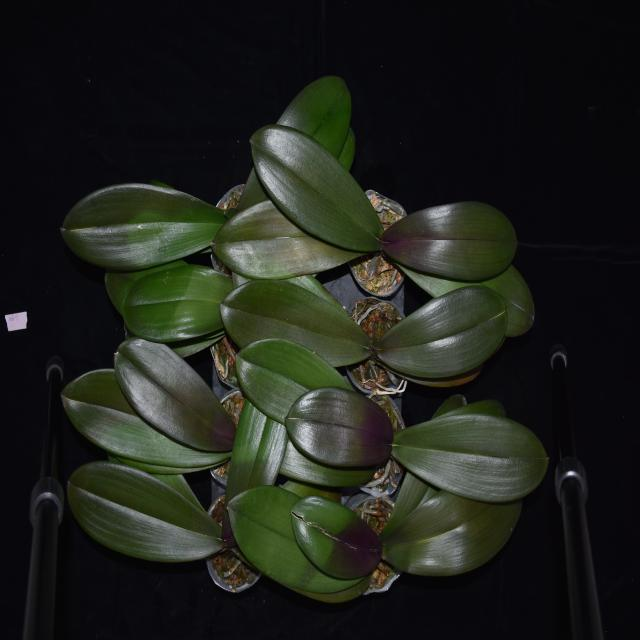leaf: (228, 482, 379, 605), (59, 366, 232, 473), (250, 122, 382, 255), (66, 461, 224, 566), (240, 76, 353, 210), (117, 338, 237, 456), (215, 280, 374, 366), (212, 194, 376, 276), (393, 417, 549, 503), (61, 181, 221, 264), (373, 282, 508, 379), (382, 490, 525, 574), (381, 201, 519, 284), (388, 262, 537, 337), (231, 340, 356, 426), (289, 385, 393, 465), (290, 494, 380, 581), (122, 267, 224, 341), (226, 395, 288, 506), (104, 262, 190, 312)
